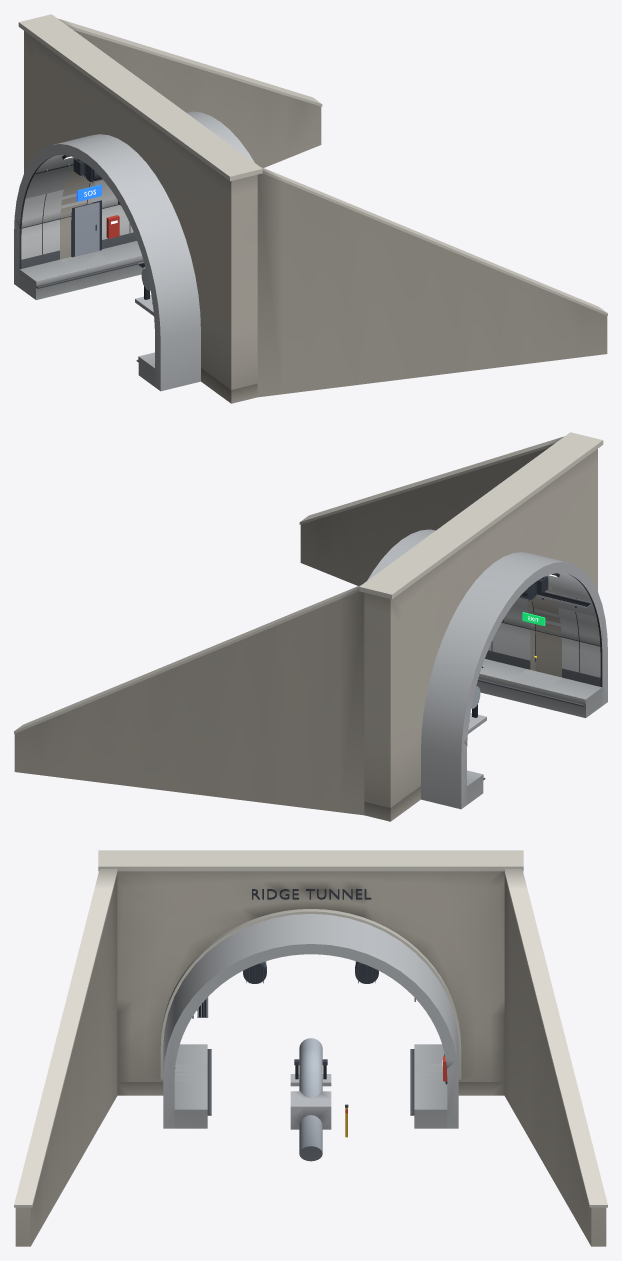
File: continua_tunnel.glb
3 renders of one model, top to bottom at view 1: azimuth 30°, elevation 25°; view 2: azimuth 150°, elevation 25°; view 3: azimuth 270°, elevation 25°, orthographic.
Parts seen in each view (by area): view 1: PROP_TunnelPortal, PROP_TunnelSegment, PROP_TunnelSOS; view 2: PROP_TunnelPortal, PROP_TunnelSegment; view 3: PROP_TunnelPortal, PROP_TunnelSegment, PROP_PipelineBury, PROP_TunnelFans.
Part boxes in pixels (x1,y1,x2,y2): PROP_TunnelPortal: [18, 14, 607, 403]; PROP_TunnelSegment: [14, 111, 254, 391]; PROP_TunnelSOS: [71, 184, 119, 257]; PROP_TunnelPortal: [14, 432, 603, 821]; PROP_TunnelSegment: [367, 529, 607, 809]; PROP_TunnelPortal: [14, 850, 607, 1246]; PROP_TunnelSegment: [163, 914, 458, 1128]; PROP_PipelineBury: [290, 1038, 348, 1161]; PROP_TunnelFans: [243, 961, 378, 983].
Size of the model in its own units: 17.04 by 10.48 by 23.32.
